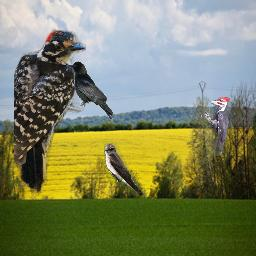Crow: (66, 61, 114, 120)
Swallow: (104, 143, 145, 196)
Woodpecker: (14, 28, 86, 196), (200, 97, 230, 156)
